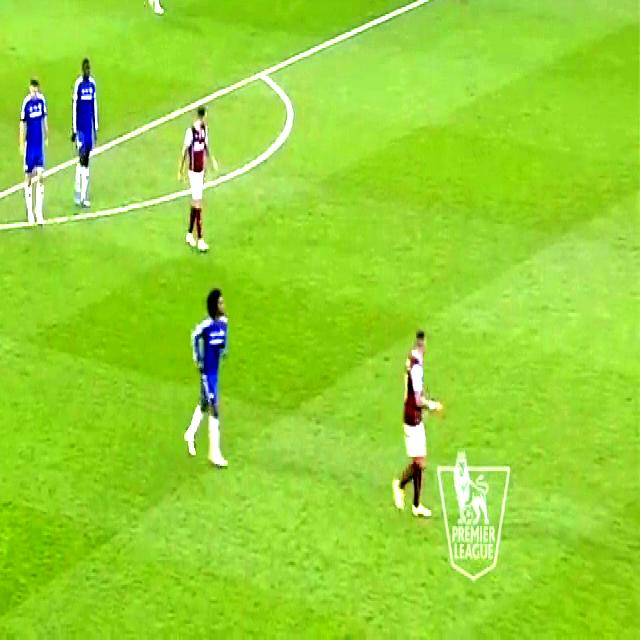soccer-player: (384, 312, 446, 522), (180, 277, 240, 473), (63, 43, 106, 216), (176, 102, 220, 261), (16, 61, 58, 220), (141, 0, 173, 23), (437, 0, 473, 7)
